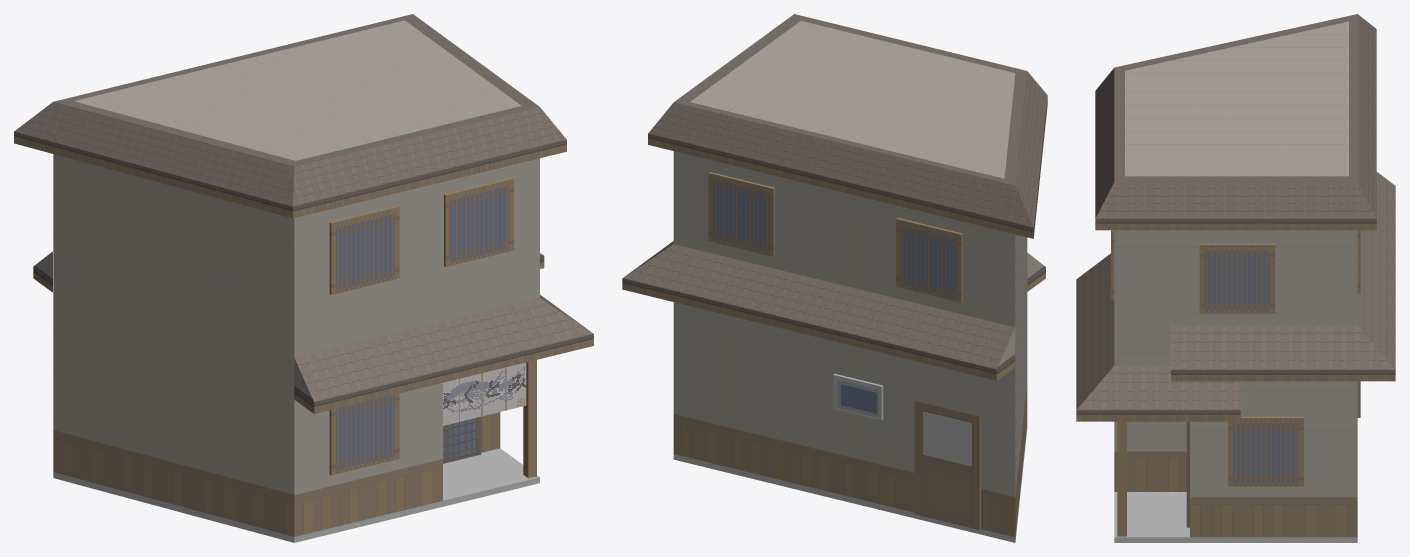
Rendered from 0188_Blowfish_Restaurant.glb.
The picture shows the model from 3 angles, left to right: view 1: azimuth 30°, elevation 25°; view 2: azimuth 150°, elevation 25°; view 3: azimuth 270°, elevation 25°; orthographic projection. The views are drawn at different scales.
Parts seen in each view (by area): view 1: part_0; view 2: part_0; view 3: part_0.
Boxes of the visible parts, x1=… form: part_0: x1=14, y1=14, x2=593, y2=542; part_0: x1=622, y1=14, x2=1047, y2=542; part_0: x1=1076, y1=14, x2=1395, y2=542.
Size of the model in its own units: 7.42 by 6.3 by 5.05.
1 material, 1 textured.
